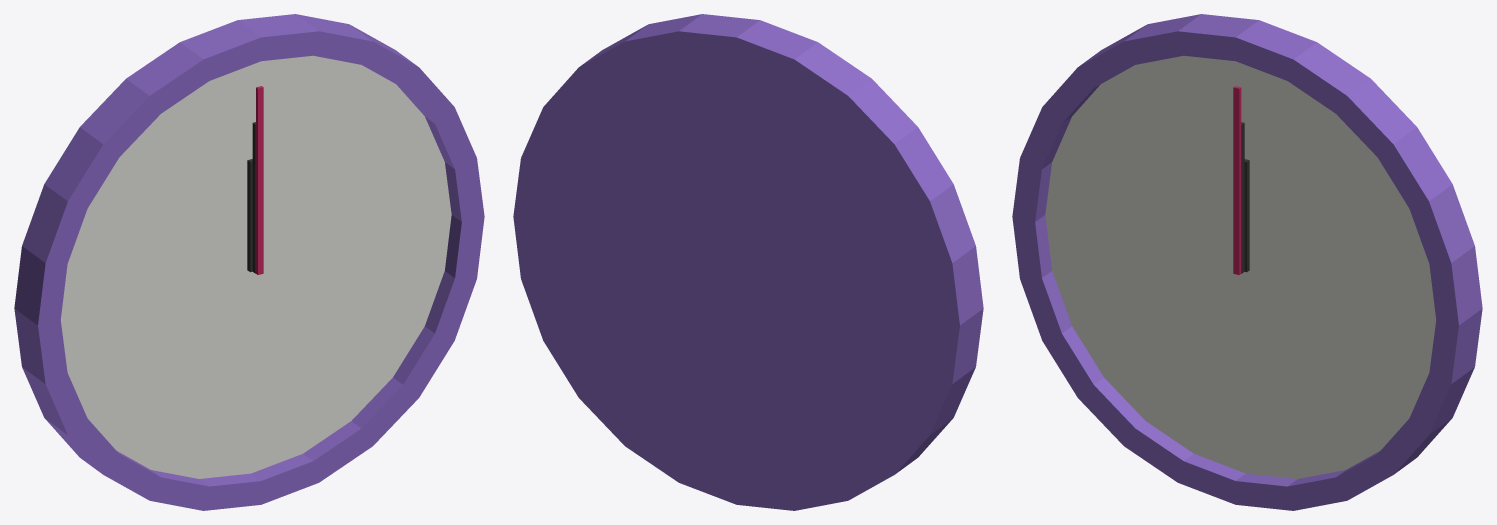
Rendered from clock.glb.
The picture shows the model from 3 angles, left to right: view 1: azimuth 30°, elevation 25°; view 2: azimuth 150°, elevation 25°; view 3: azimuth 330°, elevation 25°; orthographic projection.
Visible parts, largest first — view 1: clock, secondHand, hourHand, minuteHand; view 2: clock; view 3: clock, secondHand, hourHand, minuteHand.
Boxes of the visible parts, left/top/right/bottom form: clock: left=14, top=14, right=484, bottom=510; secondHand: left=256, top=86, right=263, bottom=274; hourHand: left=247, top=159, right=252, bottom=272; minuteHand: left=252, top=122, right=255, bottom=273; clock: left=513, top=14, right=983, bottom=510; clock: left=1012, top=14, right=1482, bottom=510; secondHand: left=1233, top=86, right=1241, bottom=274; hourHand: left=1244, top=159, right=1249, bottom=272; minuteHand: left=1241, top=122, right=1244, bottom=273.
Bounding box in the file's own units: 0.6184 × 0.6184 × 0.0567.
